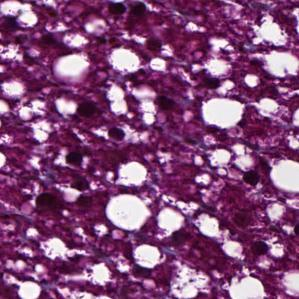steatosis: (99, 190, 152, 230), (199, 94, 249, 130), (51, 47, 92, 80)
